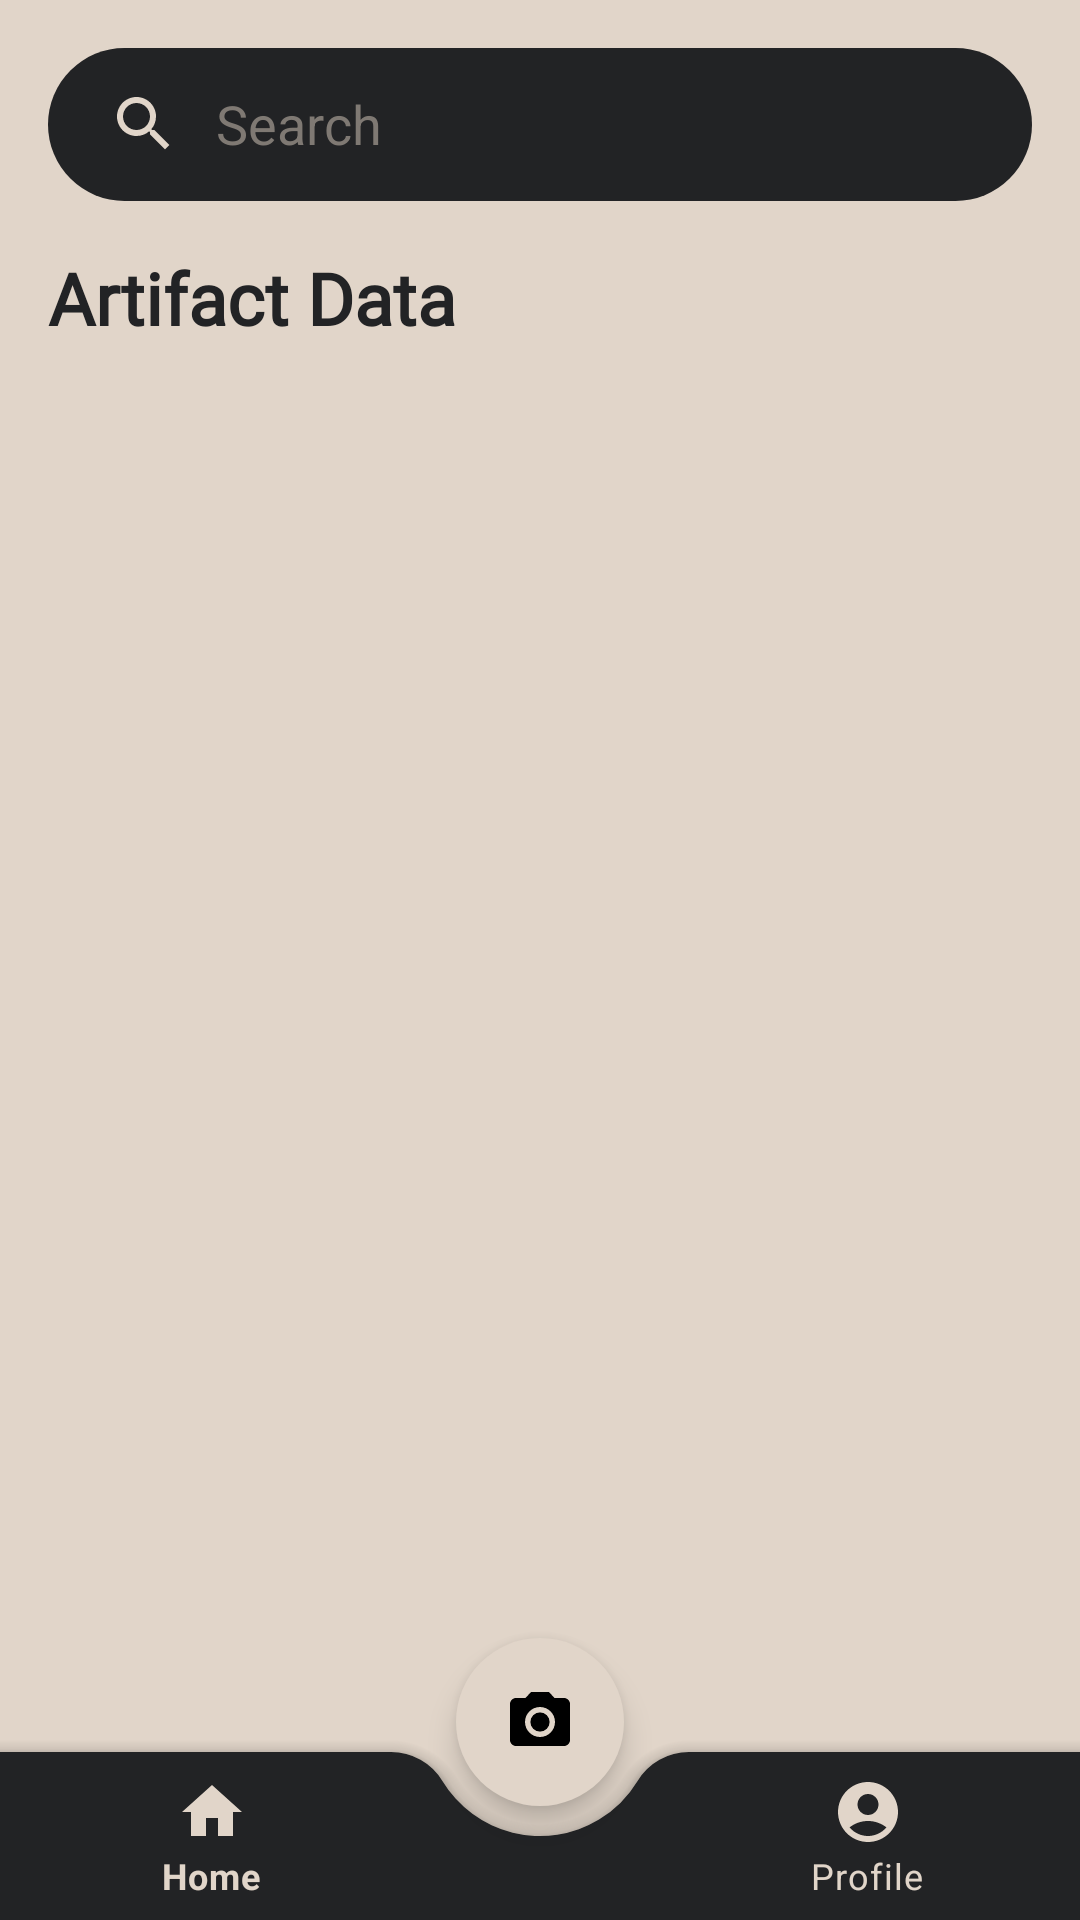

Where to tap for icons on this 1080x1920 app screen, as (x=x, y=y):
camera: (x=540, y=1752)
